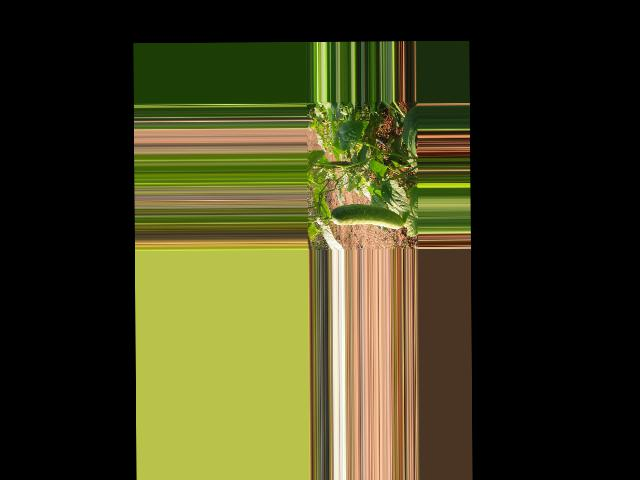cucumber: (331, 204, 404, 229)
